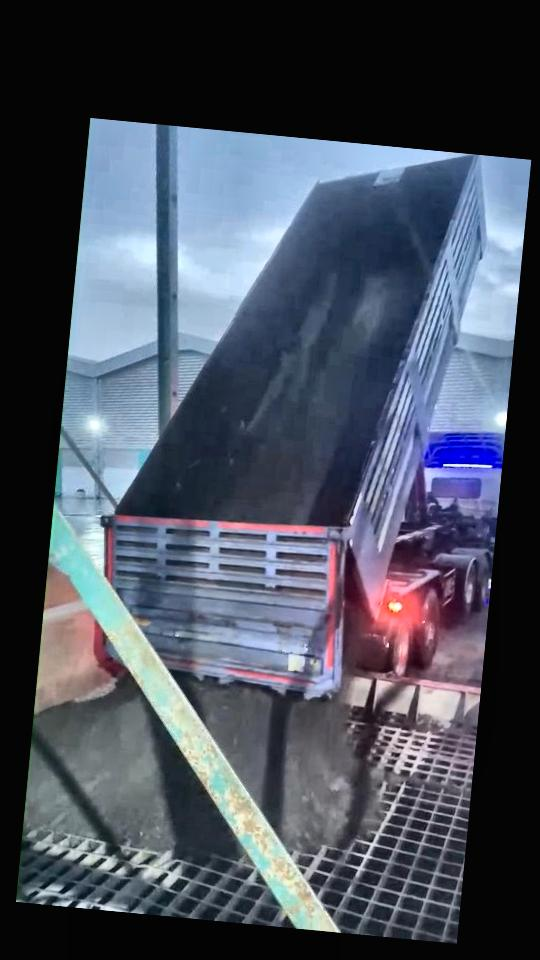gravel: (25, 676, 242, 858), (174, 672, 378, 852), (127, 363, 344, 524), (386, 772, 437, 787)
sand: (44, 562, 79, 610)
